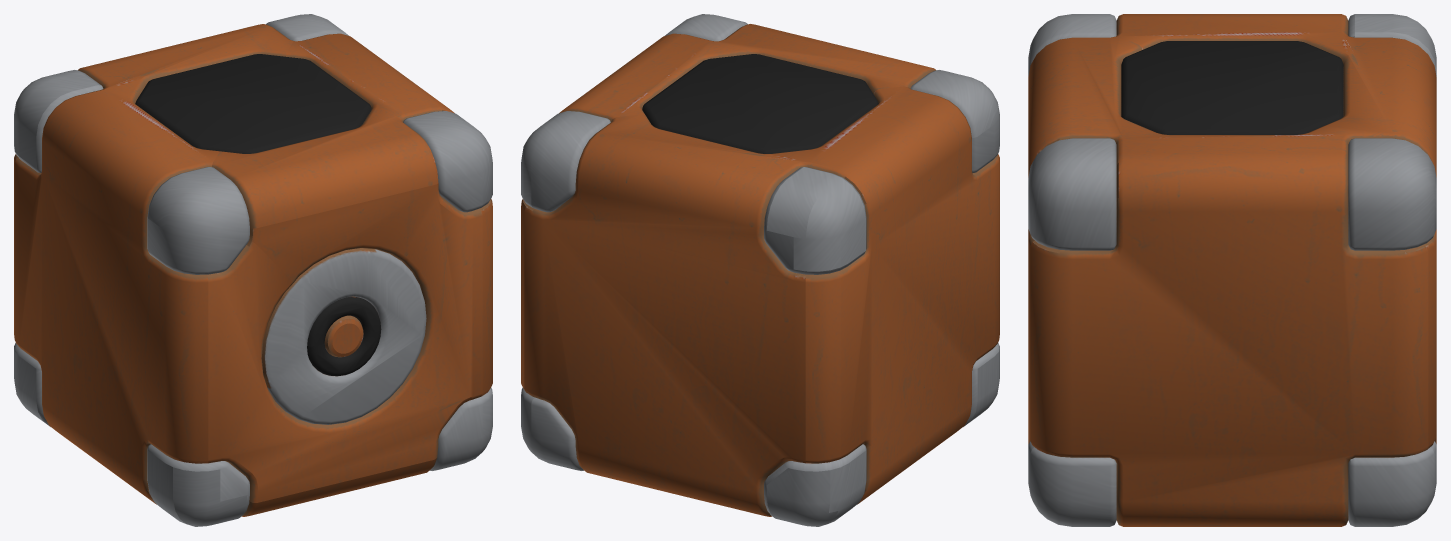
The model's file is cube simple.fbx.
3 views of the same model, side by side, from view 1: azimuth 30°, elevation 25°; view 2: azimuth 150°, elevation 25°; view 3: azimuth 270°, elevation 25° (orthographic). The views are drawn at different scales.
Visible parts, largest first — view 1: Cube; view 2: Cube; view 3: Cube.
Boxes of the visible parts, bbox=[...] form: Cube: bbox=[14, 14, 492, 526]; Cube: bbox=[521, 14, 999, 526]; Cube: bbox=[1028, 14, 1436, 526].
Bounding box in the file's own units: 200 × 200 × 200.
1 material, 1 textured.
